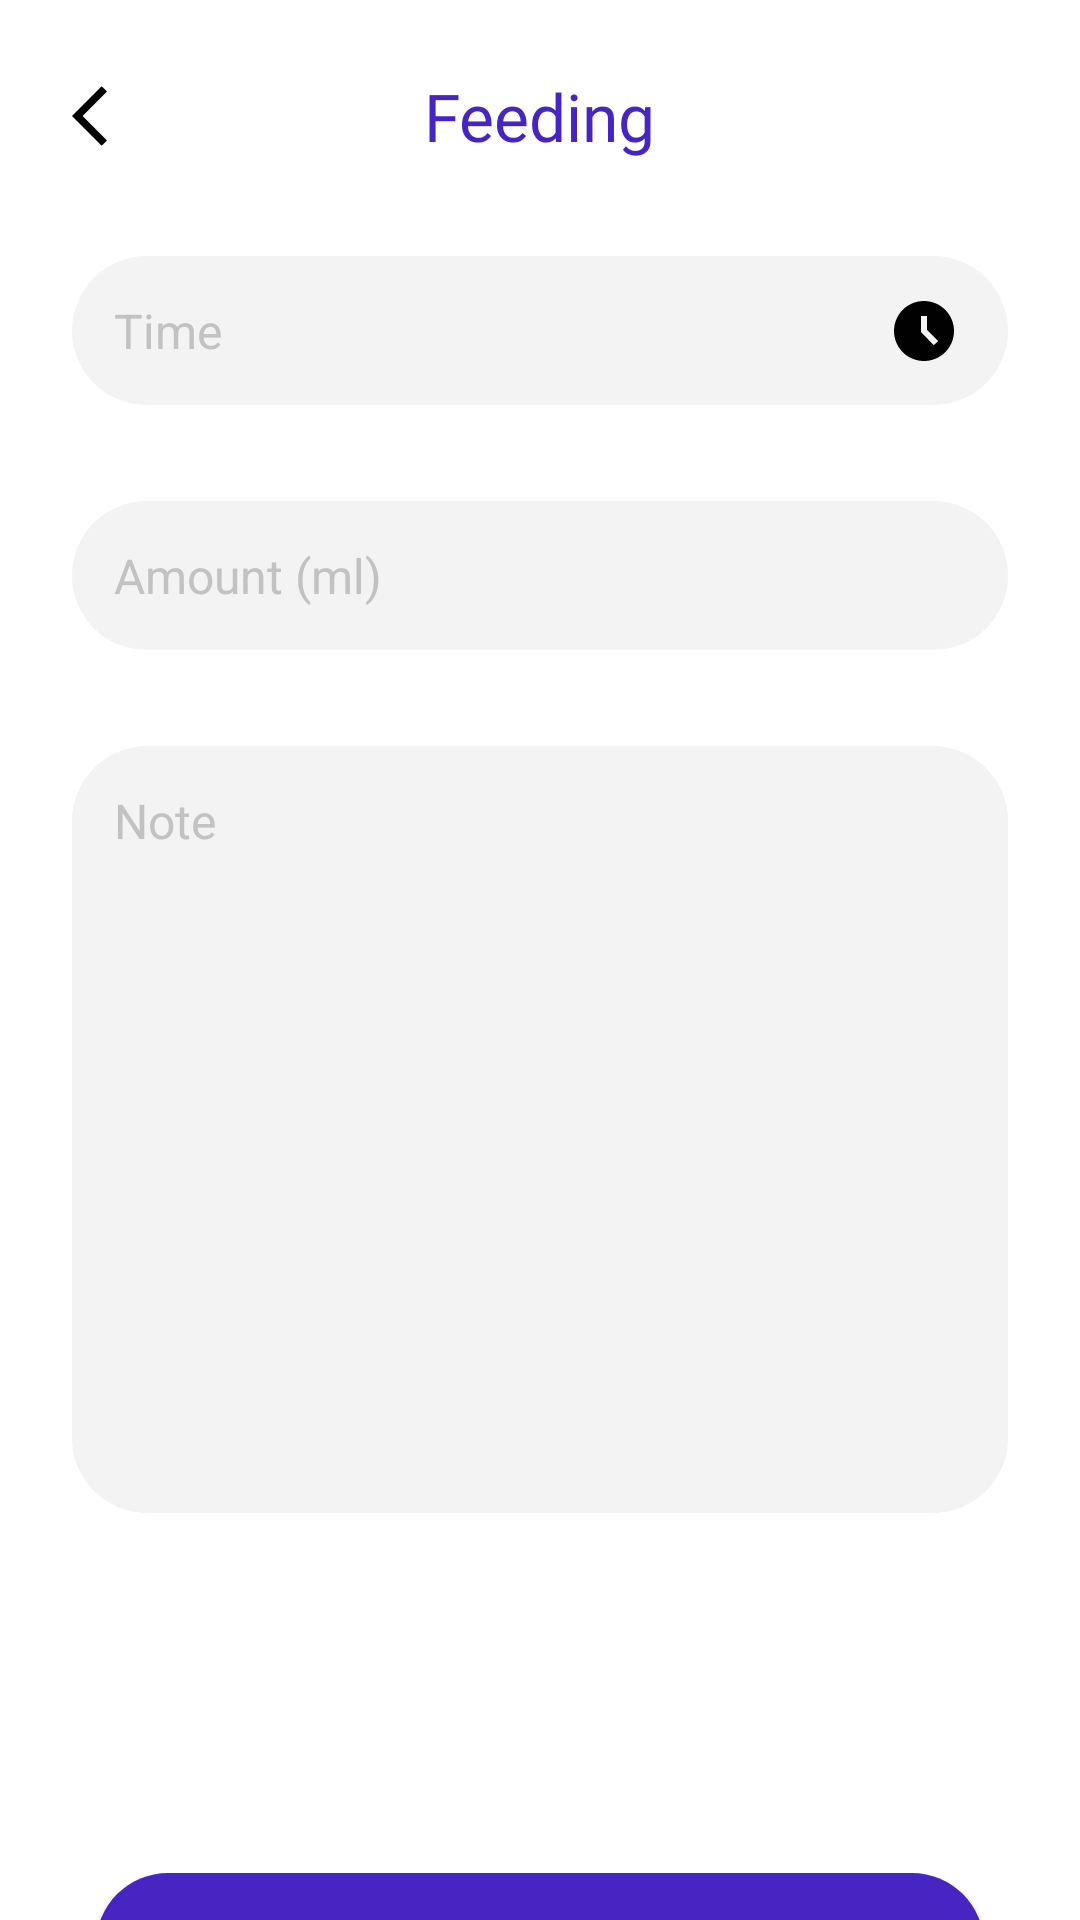

Named icons in this screenshot (1080 × 1920) and their bounding boxes, (x1, y1, x2, y2):
back: (72, 86, 107, 146)
